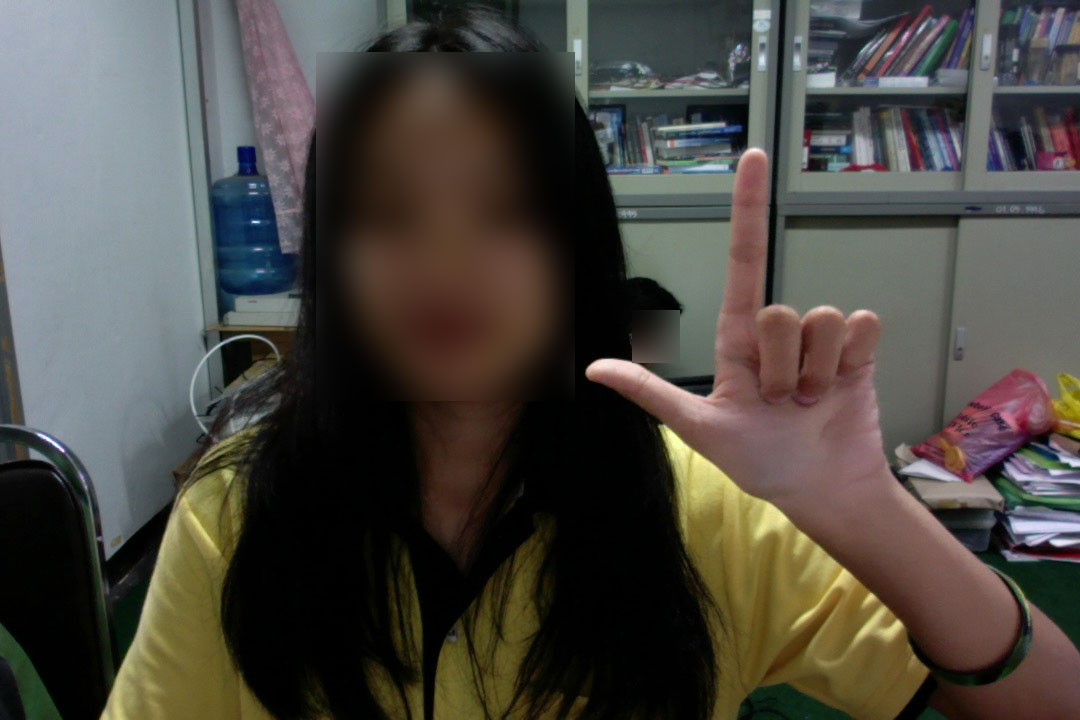lor: (573, 137, 924, 511)
